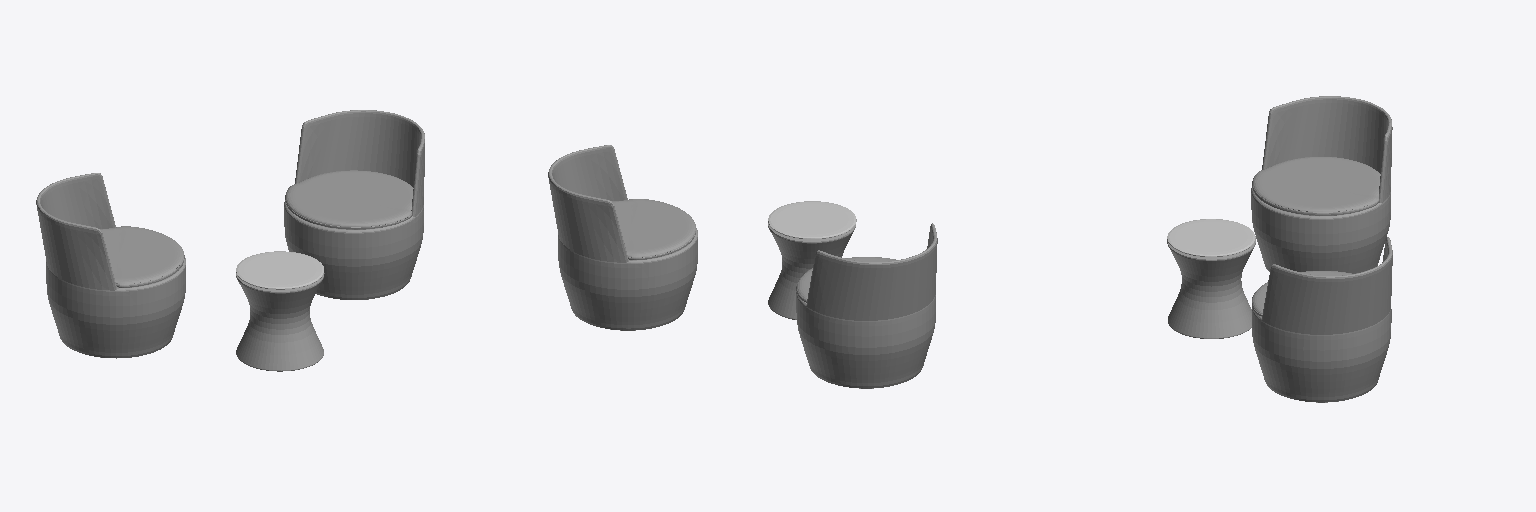
Rendered from barrelset.obj.
The picture shows the model from 3 angles: view 1: azimuth 30°, elevation 25°; view 2: azimuth 150°, elevation 25°; view 3: azimuth 270°, elevation 25°; orthographic projection.
Parts seen in each view (by area): view 1: Cylinder.009_Cylinder.012, Cylinder, Cylinder.008_Cylinder.011, Cylinder.002, Cylinder.001_Cylinder.010, Cylinder.003; view 2: Cylinder, Cylinder.009_Cylinder.012, Cylinder.008_Cylinder.011, Cylinder.002, Cylinder.003; view 3: Cylinder.009_Cylinder.012, Cylinder, Cylinder.001_Cylinder.010, Cylinder.002, Cylinder.003.
Part boxes in pixels (bbox=[...]): Cylinder.009_Cylinder.012: bbox=[284, 110, 424, 299]; Cylinder: bbox=[36, 173, 185, 358]; Cylinder.008_Cylinder.011: bbox=[285, 170, 413, 229]; Cylinder.002: bbox=[236, 273, 324, 371]; Cylinder.001_Cylinder.010: bbox=[100, 226, 184, 287]; Cylinder.003: bbox=[236, 251, 323, 289]; Cylinder: bbox=[796, 223, 937, 388]; Cylinder.009_Cylinder.012: bbox=[548, 145, 697, 330]; Cylinder.008_Cylinder.011: bbox=[612, 199, 695, 259]; Cylinder.002: bbox=[768, 223, 855, 319]; Cylinder.003: bbox=[768, 201, 856, 238]; Cylinder.009_Cylinder.012: bbox=[1252, 237, 1392, 402]; Cylinder: bbox=[1251, 96, 1392, 273]; Cylinder.001_Cylinder.010: bbox=[1252, 157, 1380, 215]; Cylinder.002: bbox=[1167, 240, 1255, 338]; Cylinder.003: bbox=[1167, 219, 1255, 256].
Bounding box in the file's own units: 97.79 × 35.18 × 51.35.